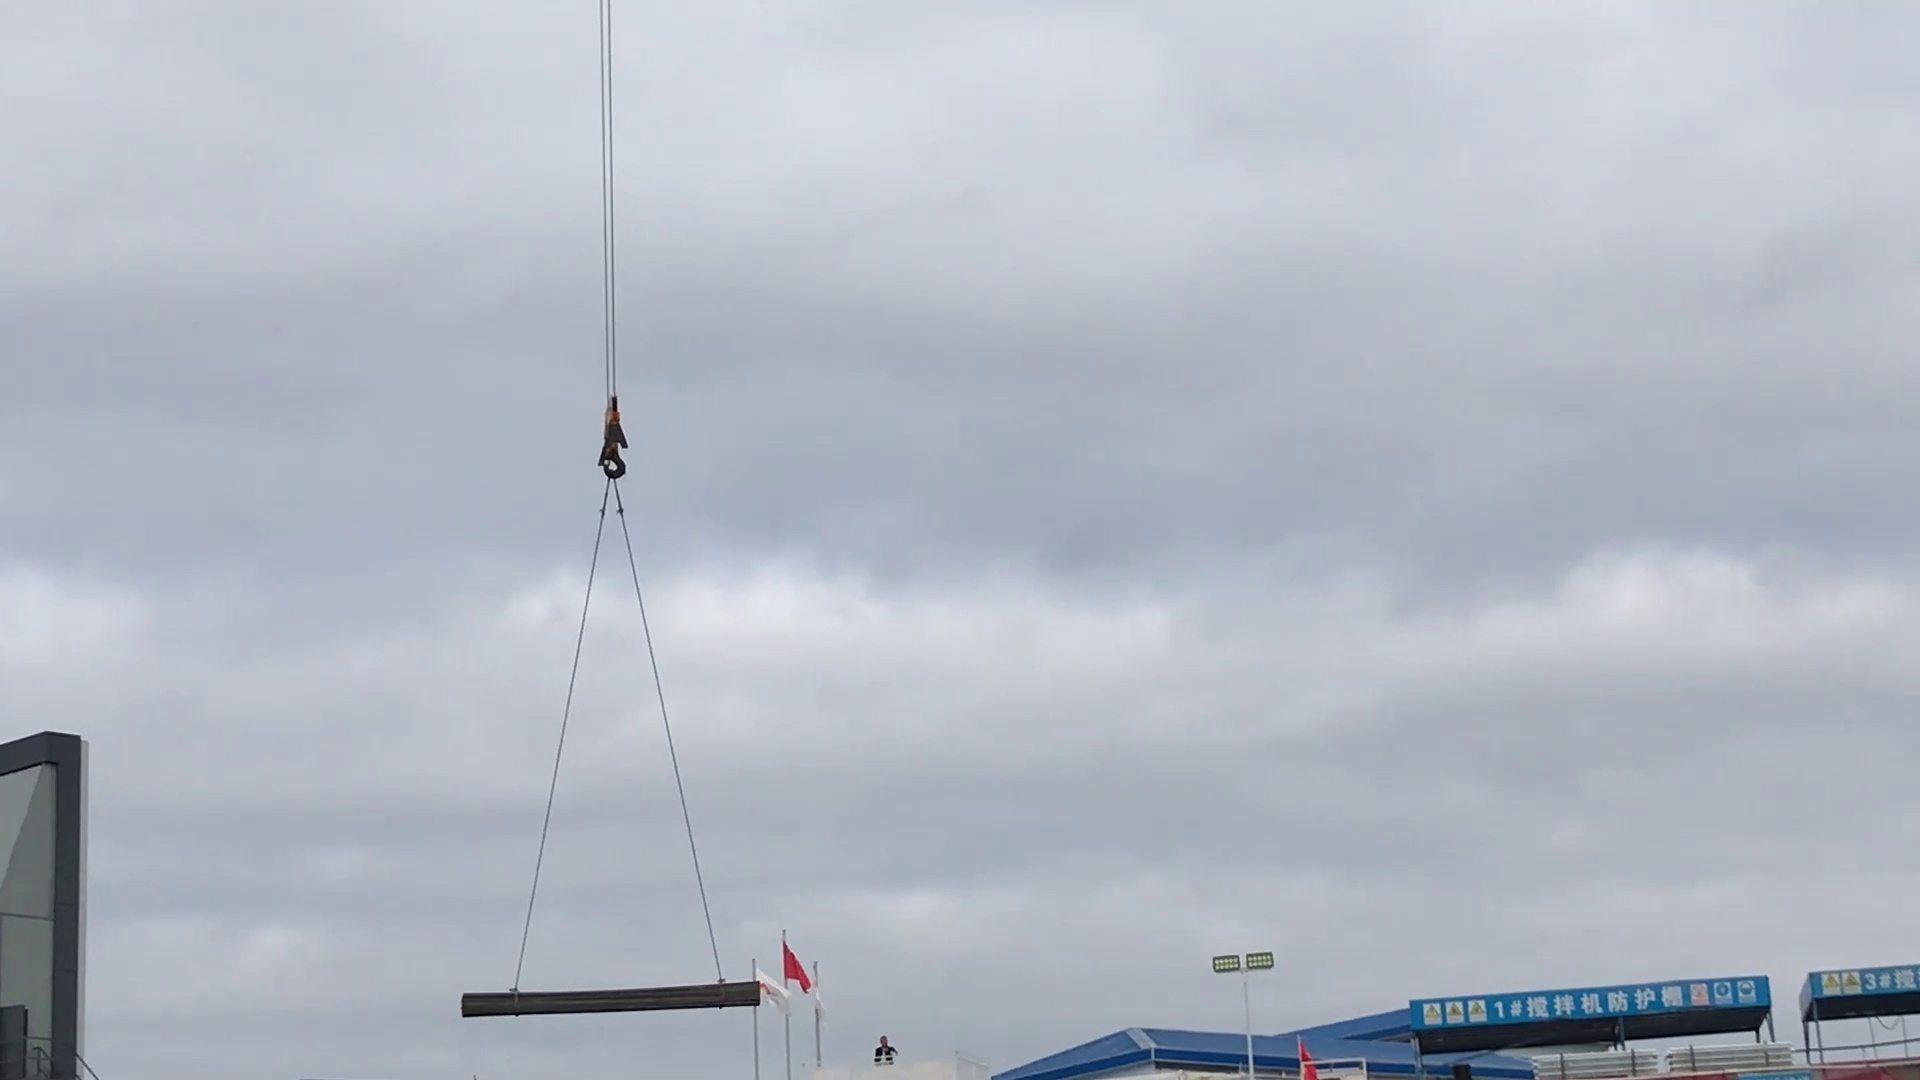hook: (582, 388, 641, 491)
rebar: (454, 976, 765, 1026)
